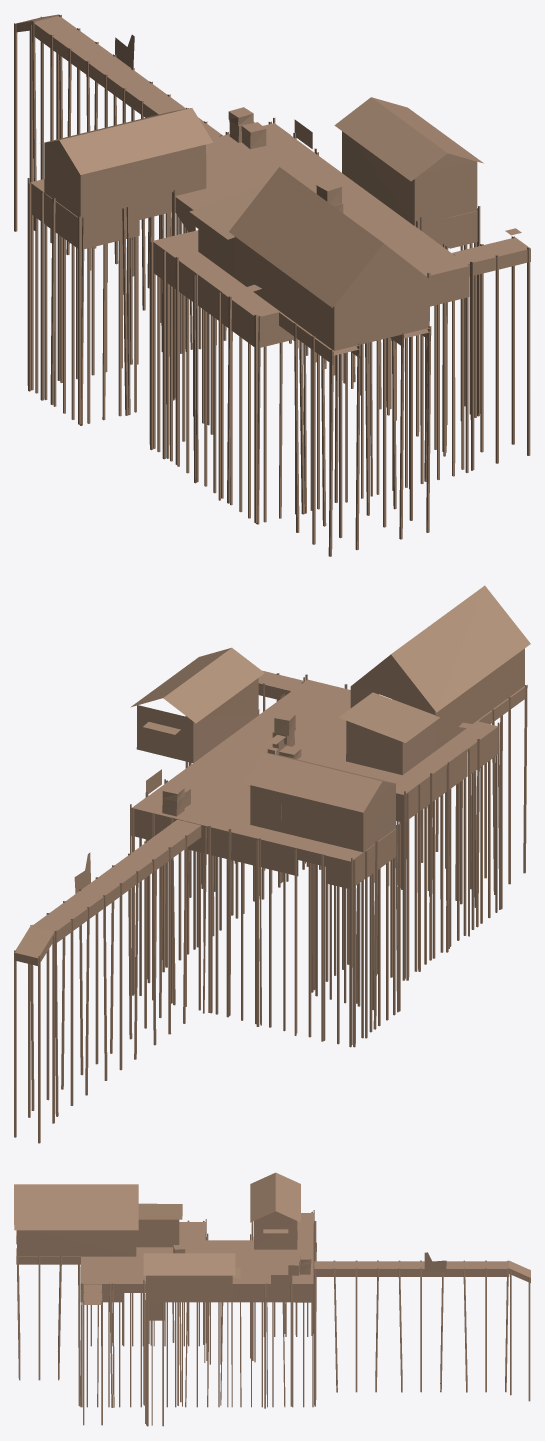
The model's file is fishing_village_c-map.glb.
3 renders of one model, top to bottom at view 1: azimuth 30°, elevation 25°; view 2: azimuth 150°, elevation 25°; view 3: azimuth 270°, elevation 25°, orthographic. The views are drawn at different scales.
Parts seen in each view (by area): view 1: fishing_village_c_hlod; view 2: fishing_village_c_hlod; view 3: fishing_village_c_hlod.
Part boxes in pixels (x1,y1,x2,y2): fishing_village_c_hlod: (14,14,530,556); fishing_village_c_hlod: (14,585,530,1143); fishing_village_c_hlod: (14,1172,530,1426).
Bounding box in the file's own units: 30.13 × 29.18 × 71.72.
